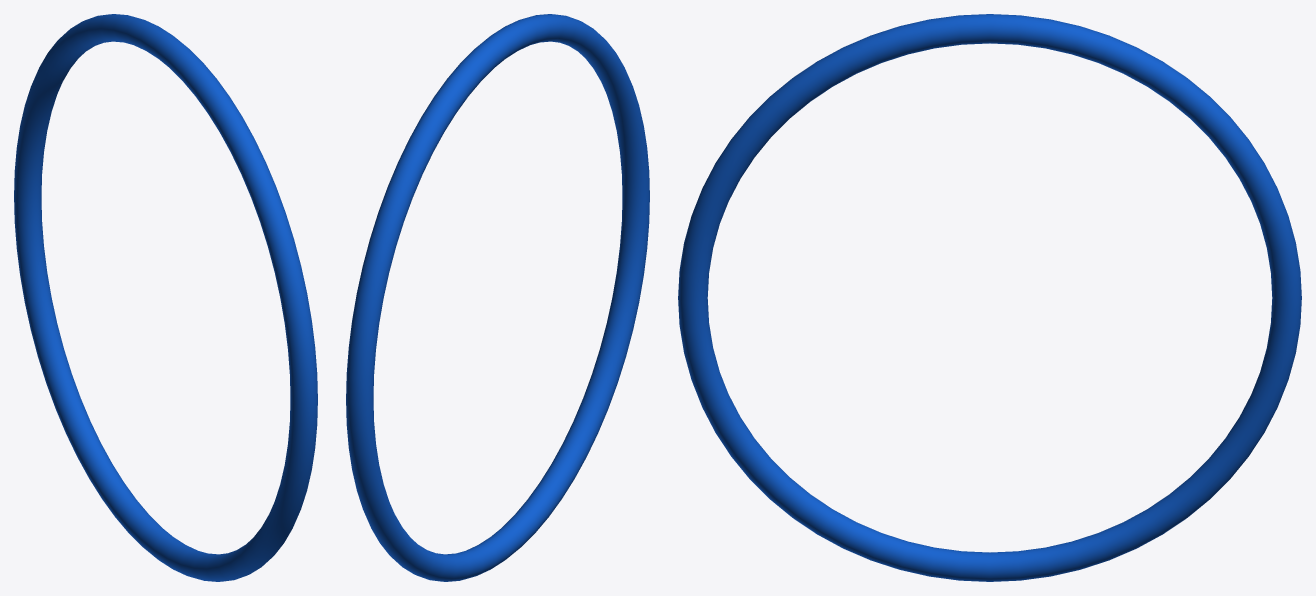
Rendered from ring.obj.
3 renders of one model, left to right at view 1: azimuth 30°, elevation 25°; view 2: azimuth 150°, elevation 25°; view 3: azimuth 270°, elevation 25°, orthographic. The views are drawn at different scales.
Visible parts, largest first — view 1: Torus; view 2: Torus; view 3: Torus.
Boxes of the visible parts, left/top/right/bottom form: Torus: left=14, top=14, right=317, bottom=581; Torus: left=346, top=14, right=649, bottom=581; Torus: left=678, top=14, right=1301, bottom=581.
Bounding box in the file's own units: 1 × 21 × 21.
